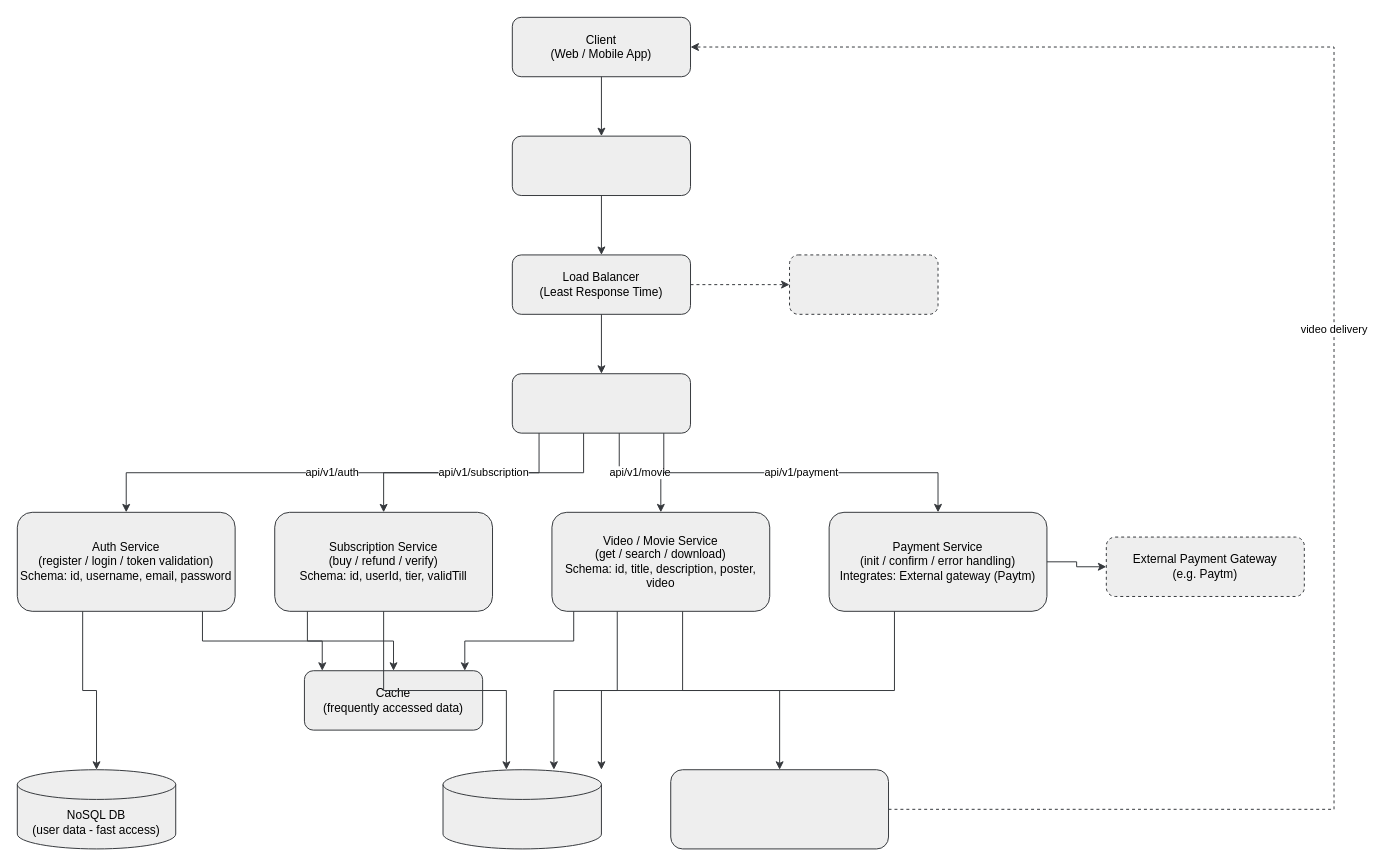
This 1384x866 diagram has some shape labels left out. Each missing label, with the centre of its shape:
"API Gateway" belongs at (x=601, y=403).
"App Servers (x3)" belongs at (x=863, y=284).
"CDN (Push CDN, Anycast, Edge Servers, 3x replication)" belongs at (x=779, y=809).
"Rate Limiter (Leaky Bucket)" belongs at (x=601, y=165).
"SQL DB (transactions & videos)" belongs at (x=521, y=809).
